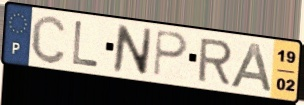A: (228, 40, 275, 94)
C: (29, 13, 68, 65)
L: (70, 19, 101, 70)
N: (111, 23, 155, 78)
P: (151, 28, 190, 79)
R: (196, 37, 235, 86)
